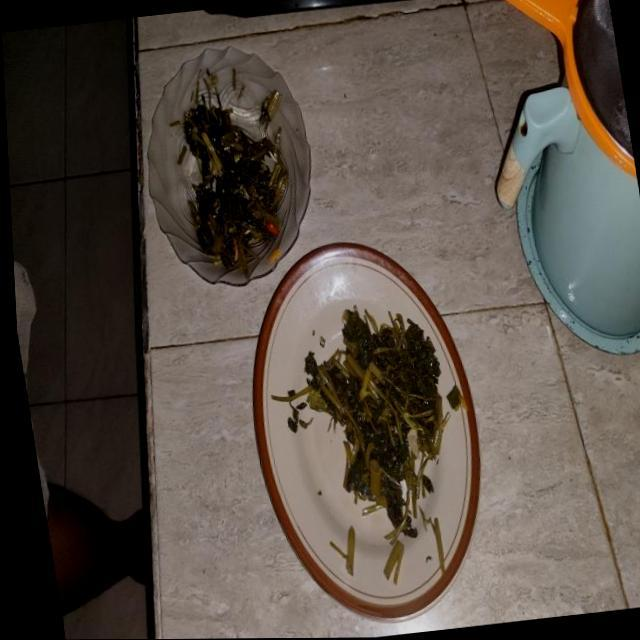tumis_kangkung: (318, 306, 448, 536), (184, 96, 288, 278)
